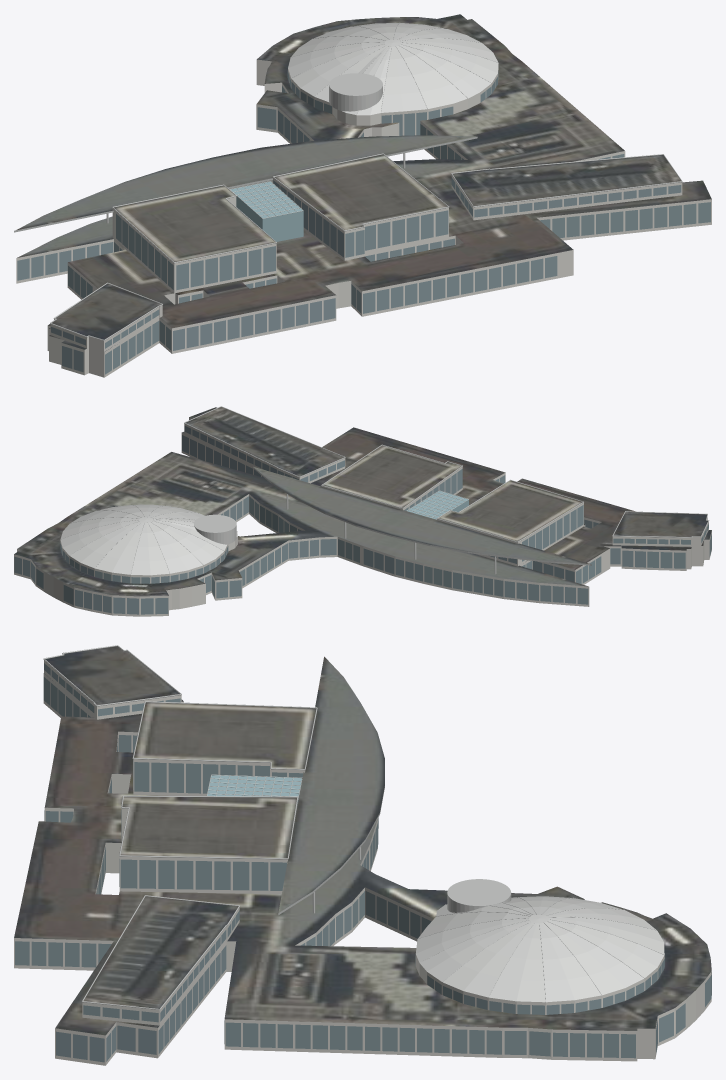
File: biwa-museum.glb
3 renders of one model, top to bottom at view 1: azimuth 30°, elevation 25°; view 2: azimuth 150°, elevation 25°; view 3: azimuth 270°, elevation 25°, orthographic. The views are drawn at different scales.
Parts seen in each view (by area): view 1: Roof terraces, Windows, Walls, Metal, Zinc, Glass, Mullions; view 2: Roof terraces, Windows, Walls, Metal, Zinc, Glass, Mullions; view 3: Roof terraces, Windows, Metal, Walls, Zinc, Glass, Mullions.
Part boxes in pixels (left/top/right/bottom): Roof terraces: left=16, top=14, right=711, bottom=351; Windows: left=17, top=70, right=710, bottom=374; Walls: left=16, top=59, right=711, bottom=377; Metal: left=106, top=23, right=498, bottom=223; Zinc: left=14, top=23, right=682, bottom=340; Glass: left=230, top=181, right=303, bottom=241; Mullions: left=229, top=181, right=303, bottom=218; Roof terraces: left=14, top=407, right=711, bottom=596; Windows: left=14, top=419, right=711, bottom=614; Walls: left=14, top=417, right=711, bottom=616; Metal: left=60, top=494, right=496, bottom=575; Zinc: left=60, top=406, right=709, bottom=574; Glass: left=407, top=491, right=468, bottom=519; Mullions: left=406, top=490, right=468, bottom=519; Roof terraces: left=14, top=646, right=711, bottom=1035; Windows: left=15, top=663, right=711, bottom=1062; Metal: left=312, top=846, right=664, bottom=1002; Walls: left=14, top=660, right=711, bottom=1065; Zinc: left=43, top=645, right=663, bottom=1010; Glass: left=207, top=775, right=301, bottom=801; Mullions: left=206, top=774, right=302, bottom=799.
Size of the model in its own units: 180 by 16.2 by 140.
Materials: 8 (1 with a texture image).
